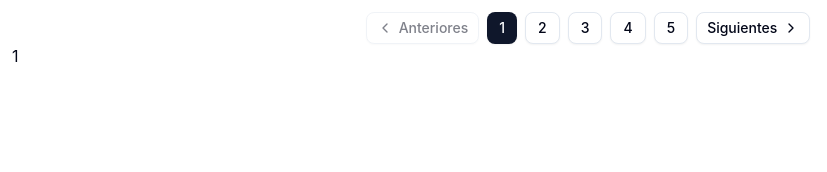
Test case: CustomPagination › should update `page` in the URL when a numbered button is clicked
This screenshot has width=827, height=172.
Expected: the text with test id "probe-page" reads "1", [12,46,18,66]
Click the button "3" at (585, 28), box [568,12,602,44]
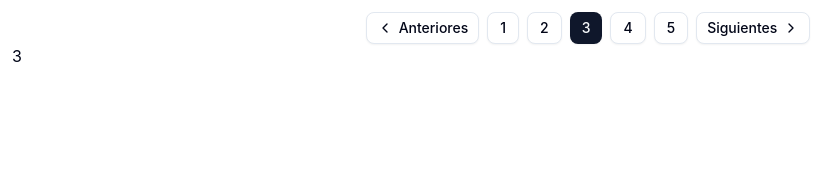
Expected: the text with test id "probe-page" reads "3", [12,46,22,66]
